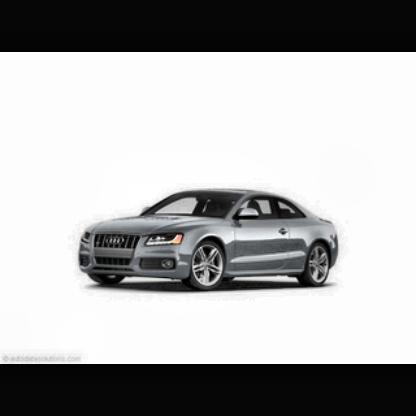Audi S5 Coupe 2012: (58, 169, 362, 314)
